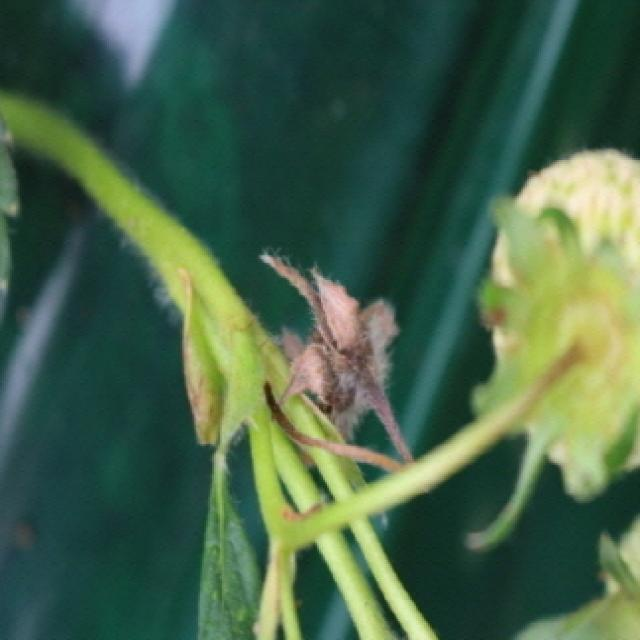Gray Mold: (259, 251, 416, 470)
